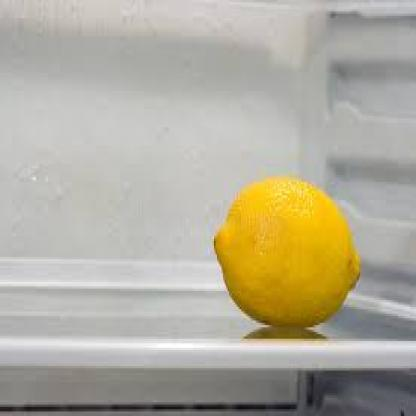lemon: (213, 175, 361, 329)
